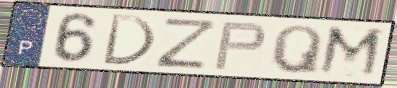6: (52, 11, 101, 65)
D: (99, 12, 158, 68)
M: (315, 23, 387, 80)
P: (210, 21, 268, 72)
Q: (268, 24, 325, 77)
Z: (154, 15, 221, 71)
